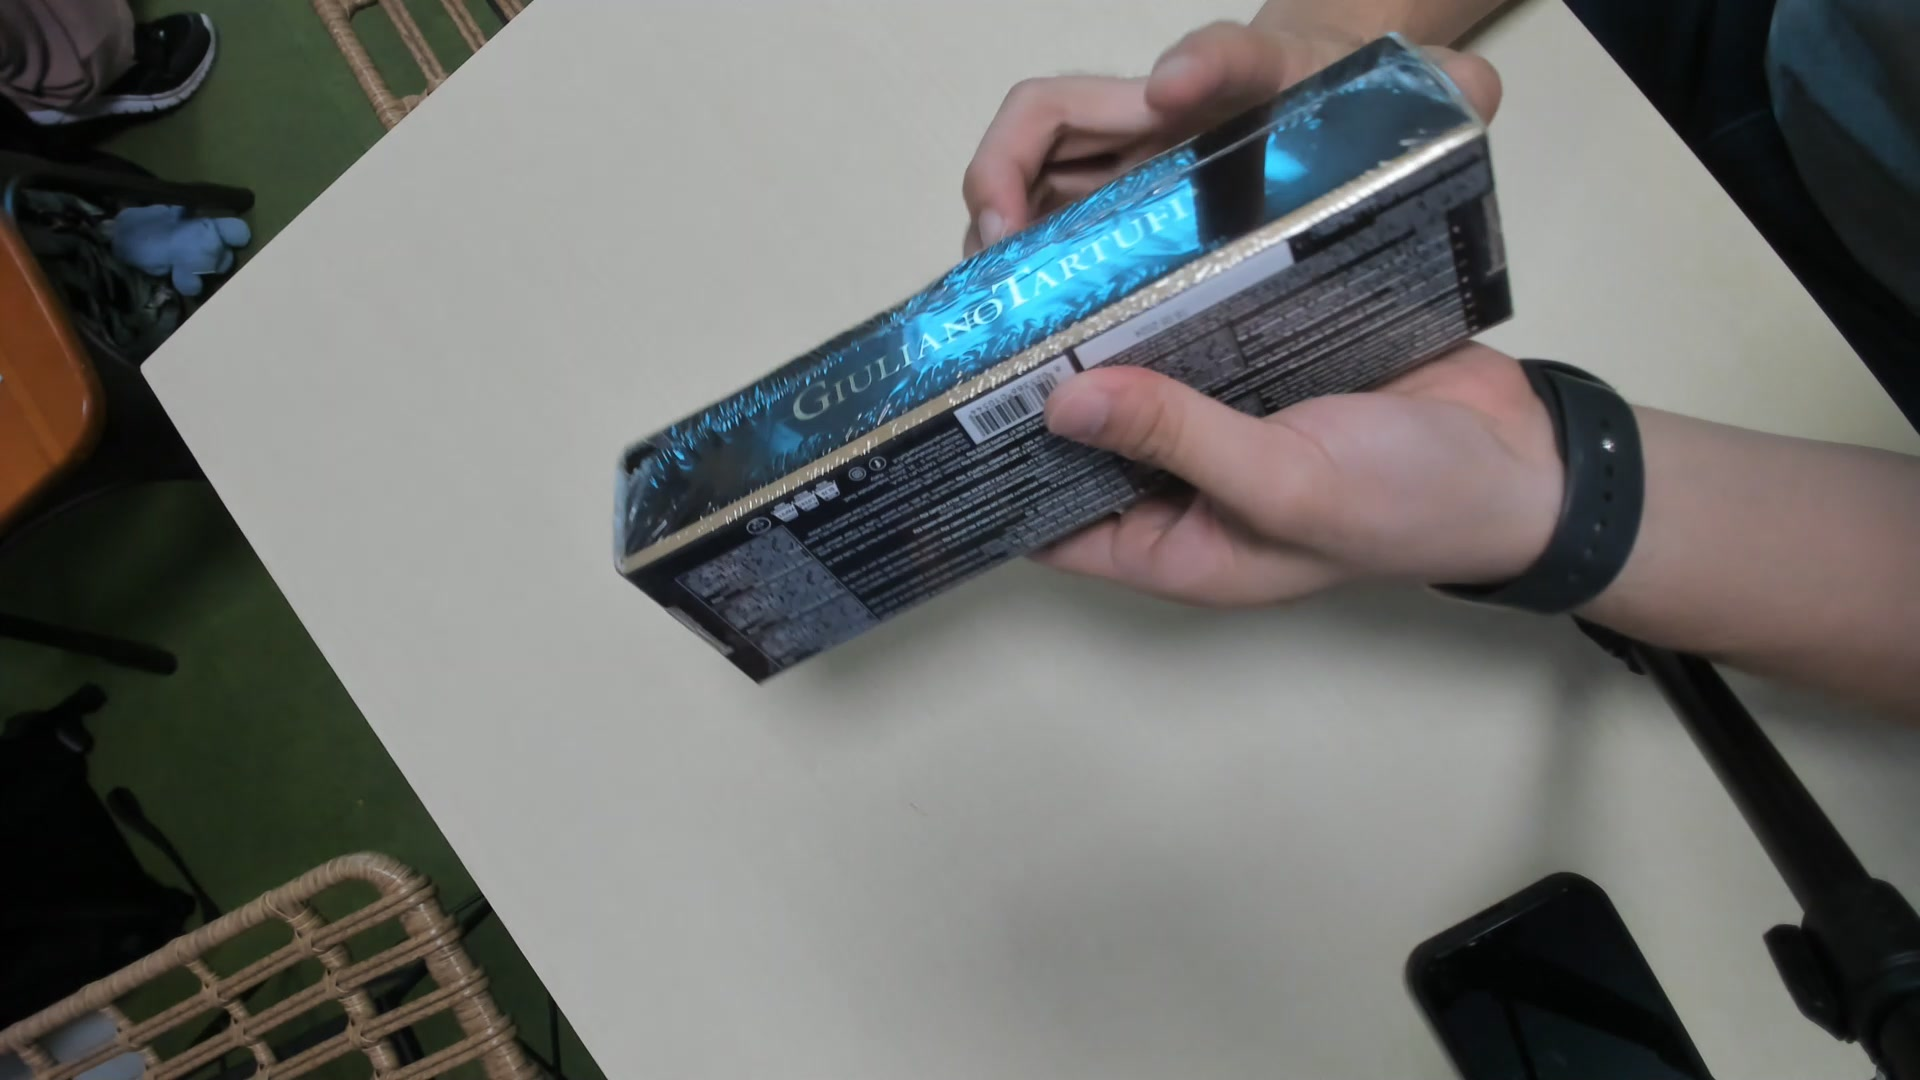OtherSauceDressing_500-599g_NonHalal_NonHealthy: (611, 34, 1524, 688)
